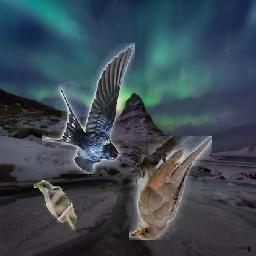Cuckoo: (130, 136, 213, 240), (33, 180, 77, 230)
Swallow: (43, 44, 136, 175)
